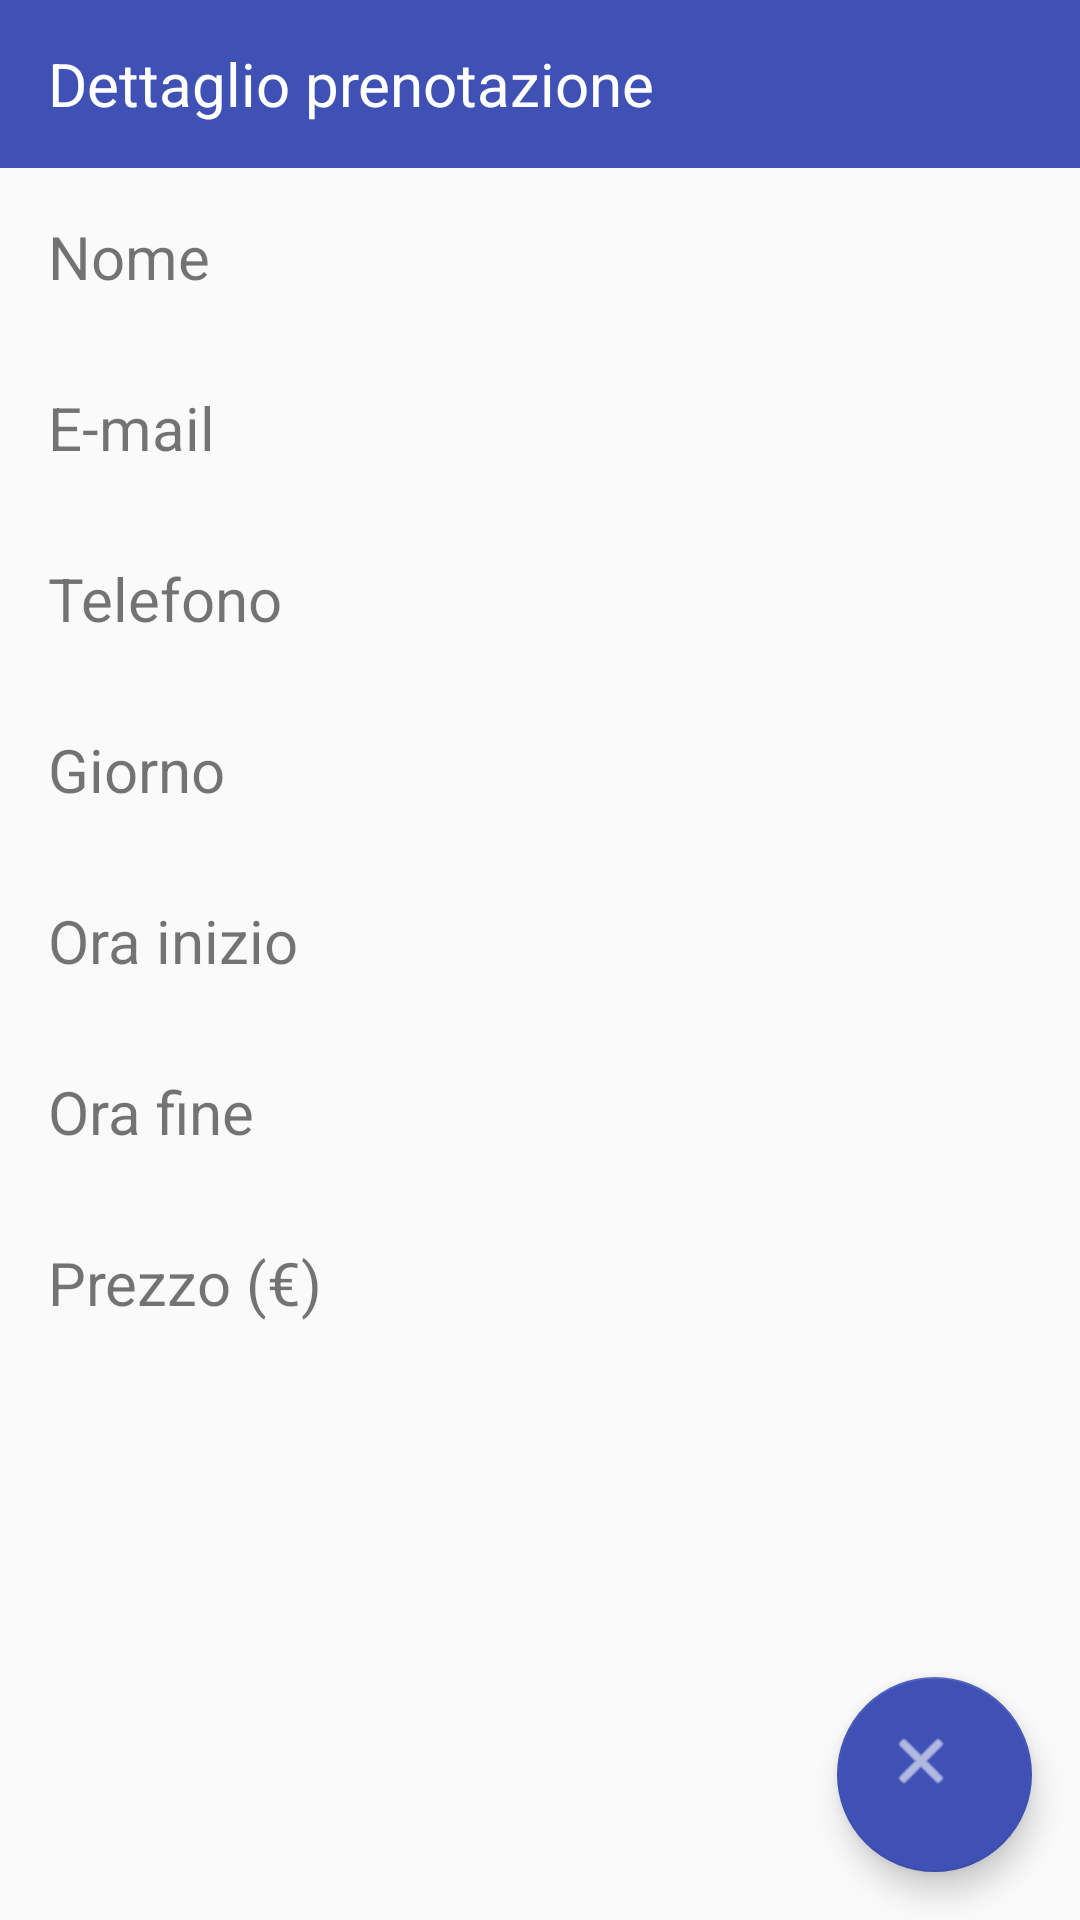

Screen size 1080px x 1920px. Icon name, then its box in pixels as (x1, y1, x2, y2):
close clear cancel: (837, 1677, 1032, 1872)
